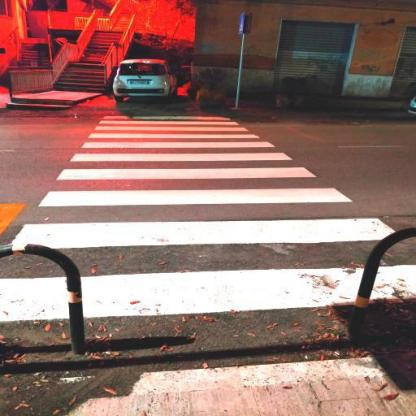crosswalk: (33, 164, 363, 211), (76, 132, 280, 152), (95, 114, 243, 126)
